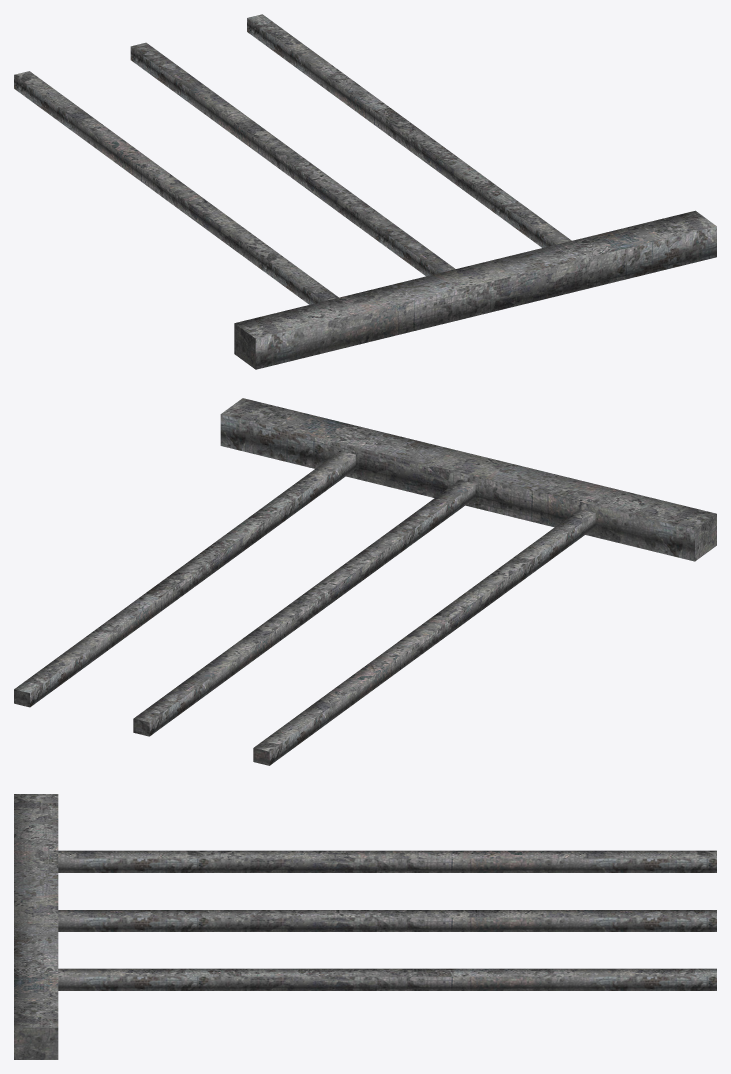
File: windowbars.obj
The picture shows the model from 3 angles, top to bottom: view 1: azimuth 30°, elevation 25°; view 2: azimuth 150°, elevation 25°; view 3: azimuth 270°, elevation 25°; orthographic projection. The views are drawn at different scales.
Parts seen in each view (by area): view 1: Window_grill015_Mesh.008; view 2: Window_grill015_Mesh.008; view 3: Window_grill015_Mesh.008.
Part boxes in pixels (x1,y1,x2,y2): Window_grill015_Mesh.008: [14, 14, 716, 369]; Window_grill015_Mesh.008: [14, 398, 716, 765]; Window_grill015_Mesh.008: [14, 794, 716, 1059].
Size of the model in its own units: 0.5424 by 0.0348 by 0.6896.
